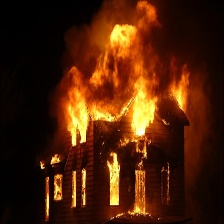fire: (96, 86, 196, 139), (71, 153, 128, 209), (62, 76, 91, 147), (37, 153, 65, 221), (133, 156, 155, 218), (104, 20, 136, 55)
